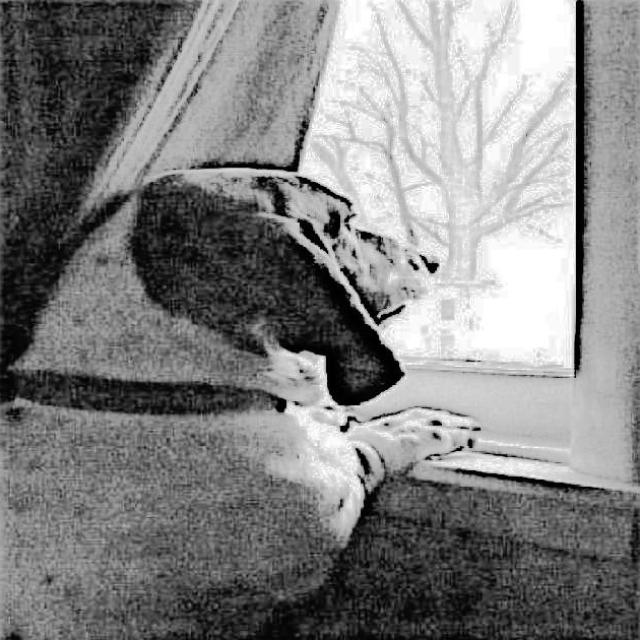Dog: (0, 154, 492, 640)
